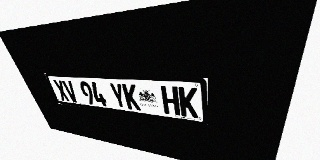4: (89, 82, 108, 106)
9: (78, 81, 97, 105)
H: (160, 86, 180, 116)
K: (178, 87, 198, 118), (122, 83, 141, 111)
V: (61, 80, 79, 103)
X: (53, 80, 70, 101)
Y: (108, 83, 128, 109)
